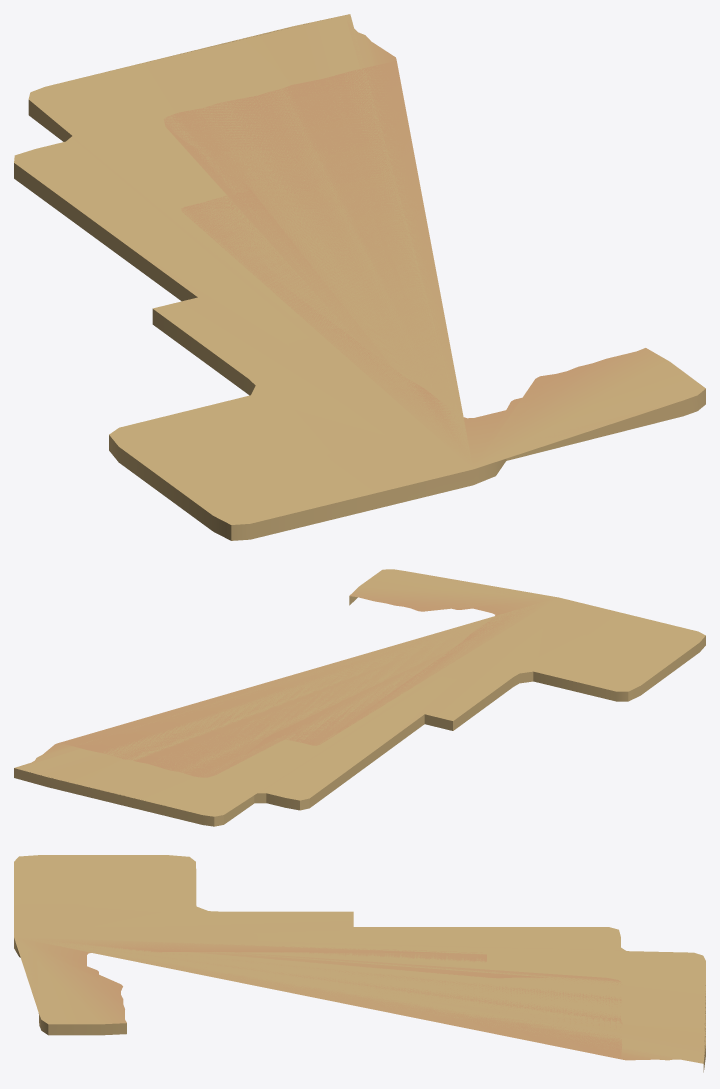
The model's file is Beach1.fbx.
3 views of the same model, one above another, from view 1: azimuth 30°, elevation 25°; view 2: azimuth 150°, elevation 25°; view 3: azimuth 270°, elevation 25° (orthographic). The views are drawn at different scales.
Parts seen in each view (by area): view 1: Plane.099; view 2: Plane.099; view 3: Plane.099.
Boxes of the visible parts, left/top/right/bottom form: Plane.099: left=14, top=14, right=705, bottom=540; Plane.099: left=14, top=569, right=705, bottom=826; Plane.099: left=14, top=855, right=705, bottom=1072.
Bounding box in the file's own units: 4068 × 100 × 5700.
